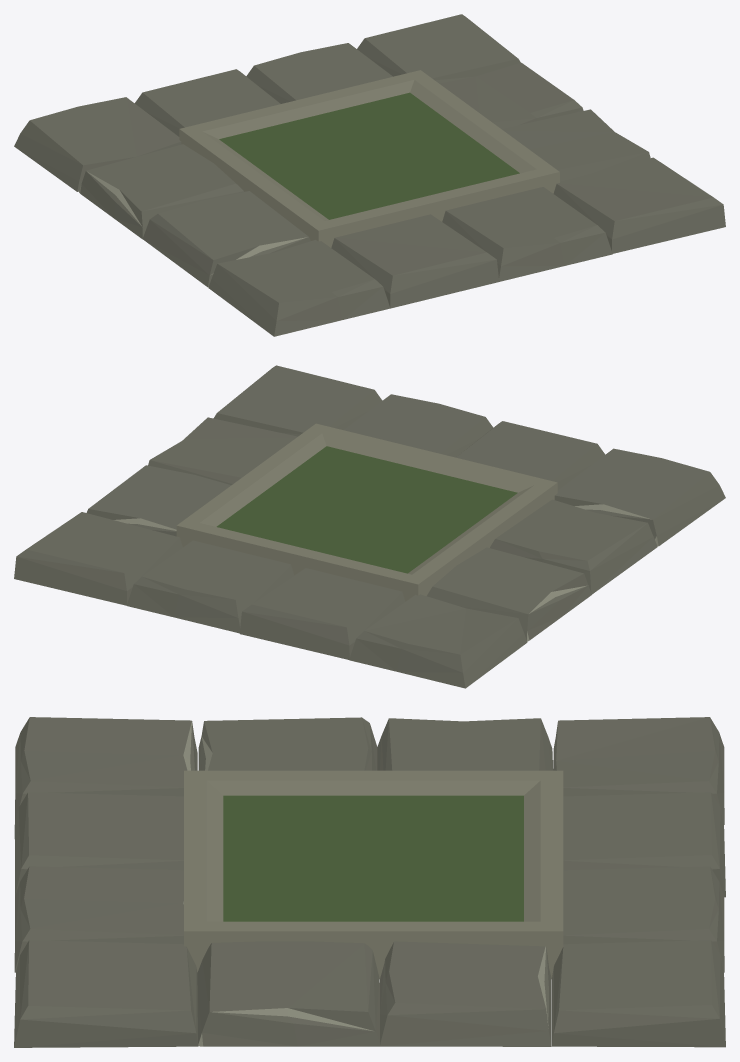
The model's file is Floor_Tree.glb.
The picture shows the model from 3 angles, top to bottom: view 1: azimuth 30°, elevation 25°; view 2: azimuth 150°, elevation 25°; view 3: azimuth 270°, elevation 25°; orthographic projection. The views are drawn at different scales.
Parts seen in each view (by area): view 1: Floor_Tree; view 2: Floor_Tree; view 3: Floor_Tree.
Boxes of the visible parts, x1,y1,x2,y2 form: Floor_Tree: (14, 14, 725, 336); Floor_Tree: (14, 365, 725, 688); Floor_Tree: (14, 717, 725, 1047).
Bounding box in the file's own units: 1.99 × 0.1484 × 2.
